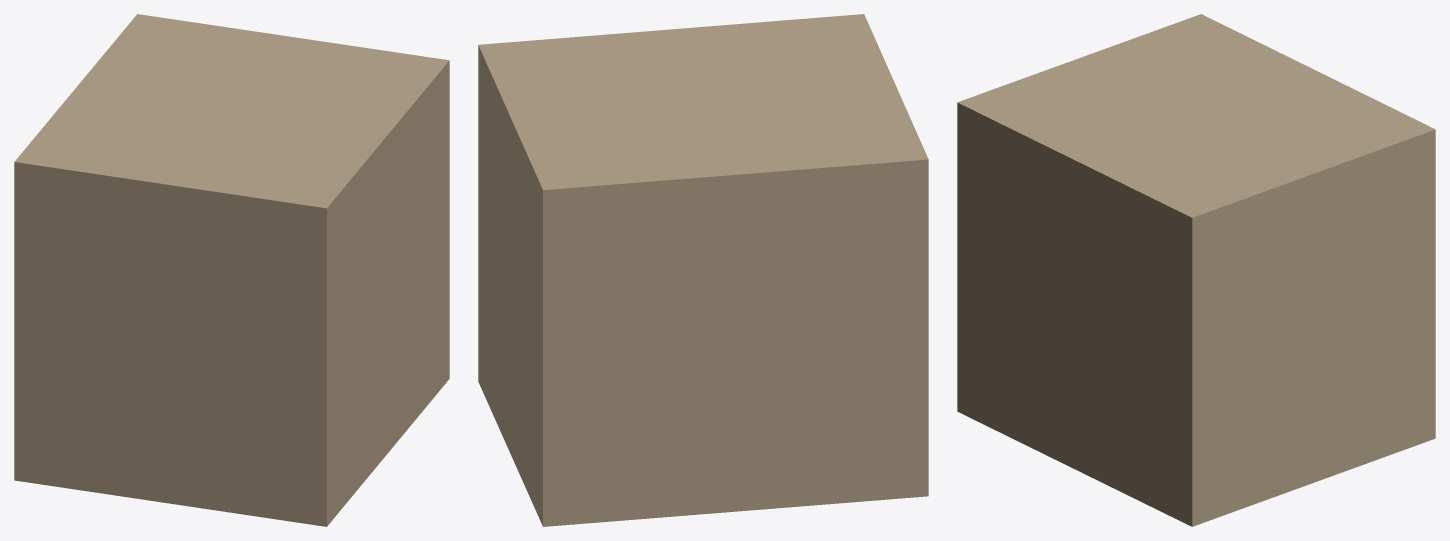
File: bld_106339083.dae
3 views of the same model, side by side, from view 1: azimuth 30°, elevation 25°; view 2: azimuth 150°, elevation 25°; view 3: azimuth 270°, elevation 25° (orthographic). The views are drawn at different scales.
Visible parts, largest first — view 1: bld_106339083; view 2: bld_106339083; view 3: bld_106339083.
Boxes of the visible parts, x1,y1,x2,y2 form: bld_106339083: (14, 14, 449, 526); bld_106339083: (478, 14, 928, 526); bld_106339083: (957, 14, 1435, 526).
Size of the model in its own units: 11.32 by 11.22 by 8.
